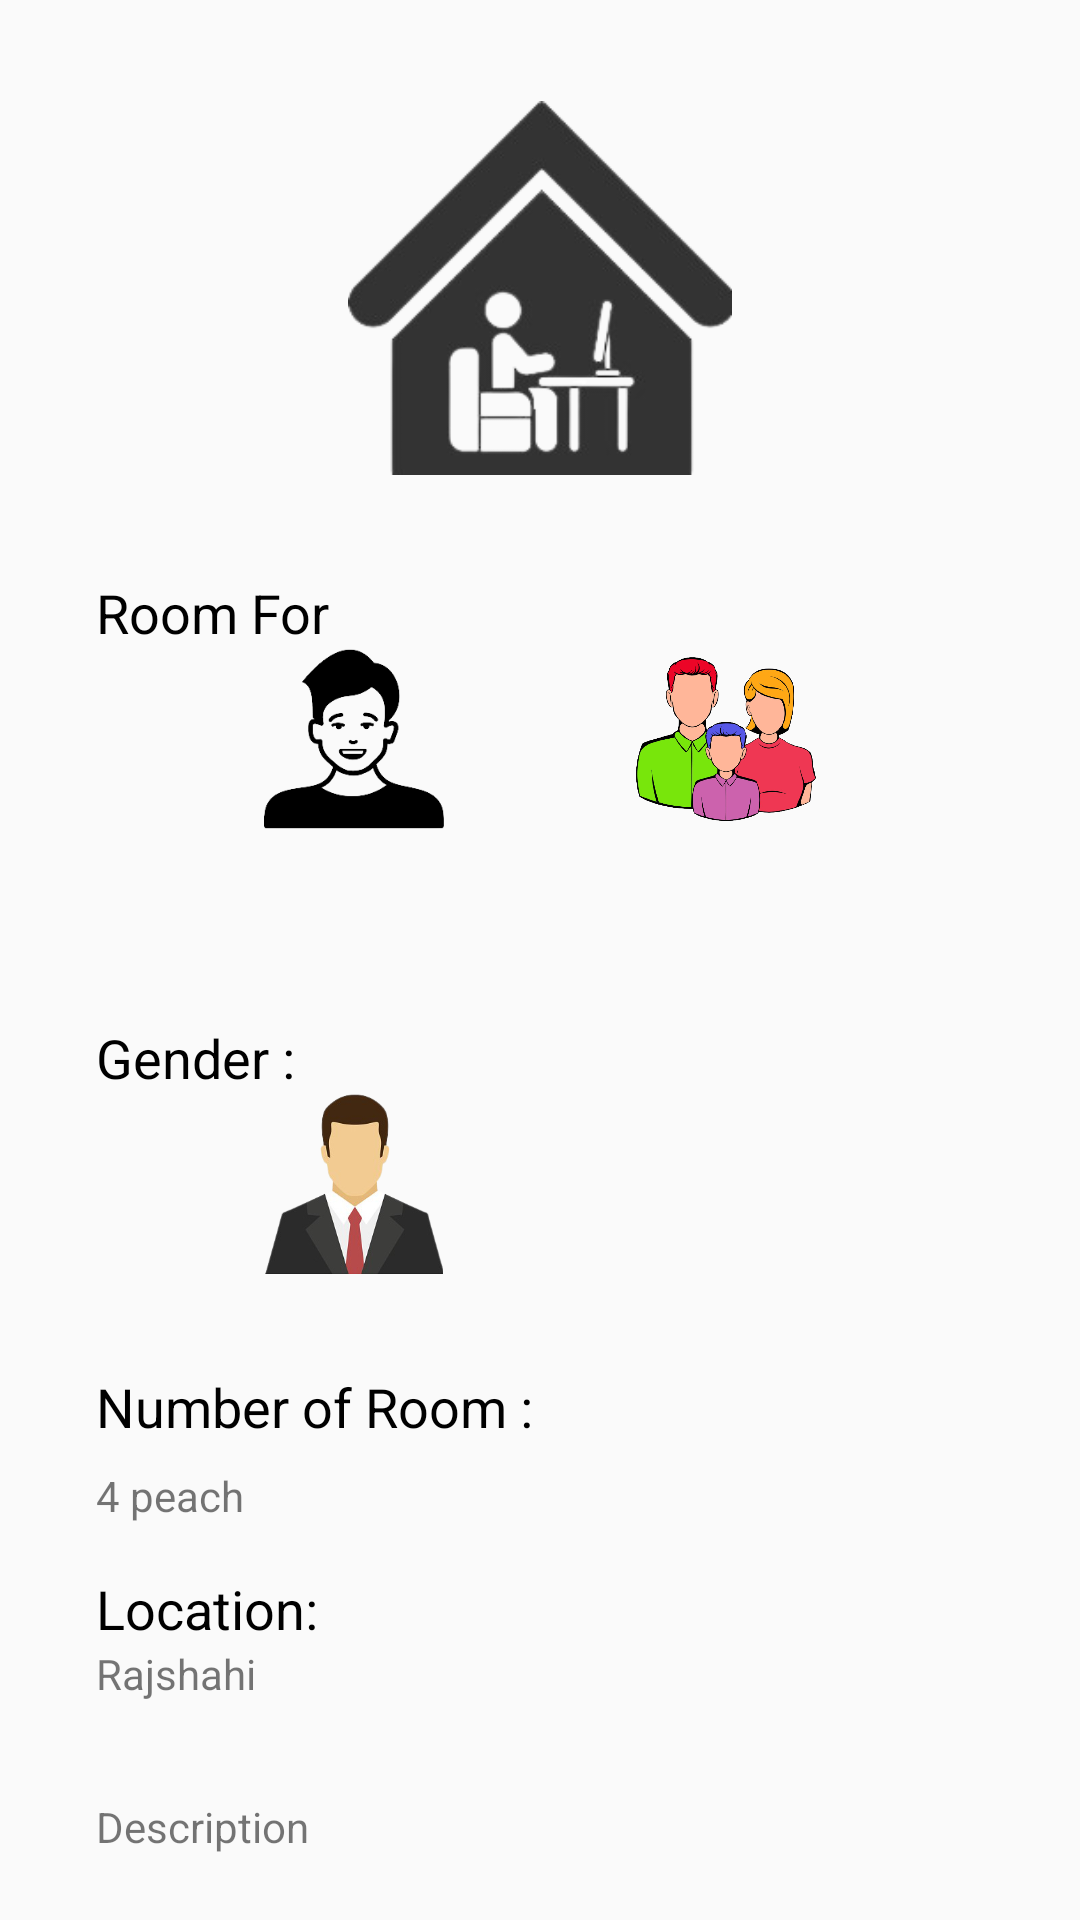

Where icons sit on this 1080w x 1920h app screen, as (x1, y1, x2, y2):
man: (265, 1094, 443, 1274)
multiple: (636, 657, 816, 821)
single: (264, 649, 444, 829)
